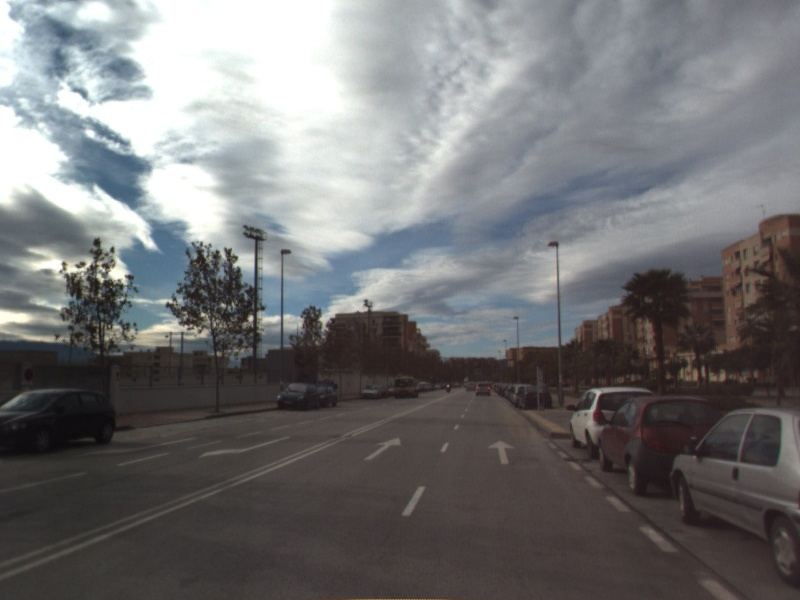STRAIGHT: (361, 435, 404, 463), (486, 438, 517, 466)
